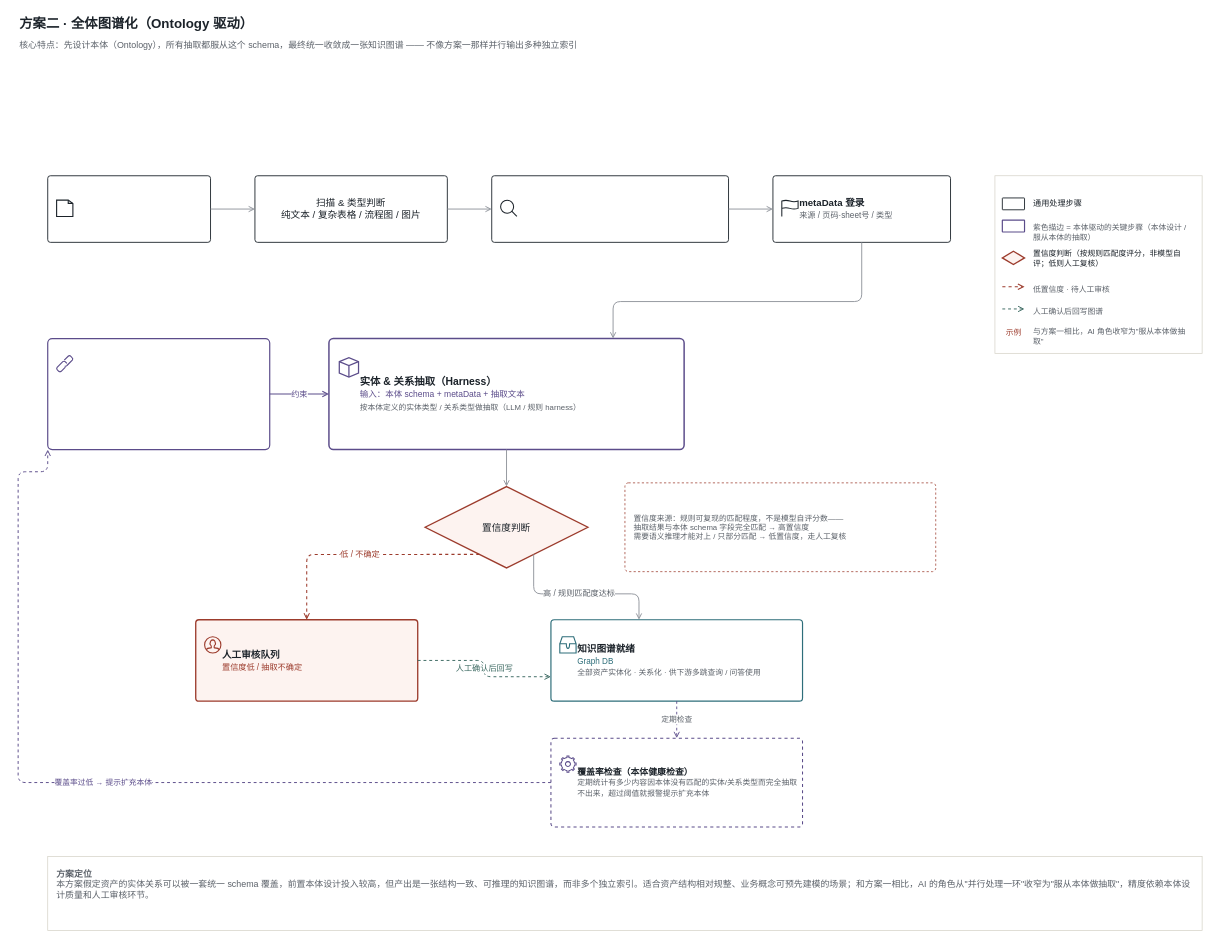
The diagram is 1216 pixels wide and 944 high, and some of its shapes have lost their labels. Each missing label, with the box of its shape:
原始资产 Office 文本 / PDF / 图片 / 扫描件: (47, 175, 211, 242)
图例: (994, 175, 1202, 353)
文字抽取 + page/sheet → PNG 非结构化内容（图 / 复杂表格）由 VLM 识别生成文本: (491, 175, 729, 242)
设计资产领域本体 Ontology：实体类型 + 关系类型 schema 人工设计 · 可迭代 · 是后续抽取的"标准答案模板": (47, 338, 270, 450)
